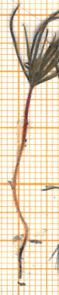flower: (6, 0, 59, 90)
root: (7, 184, 34, 292)
stem: (7, 86, 39, 184)
